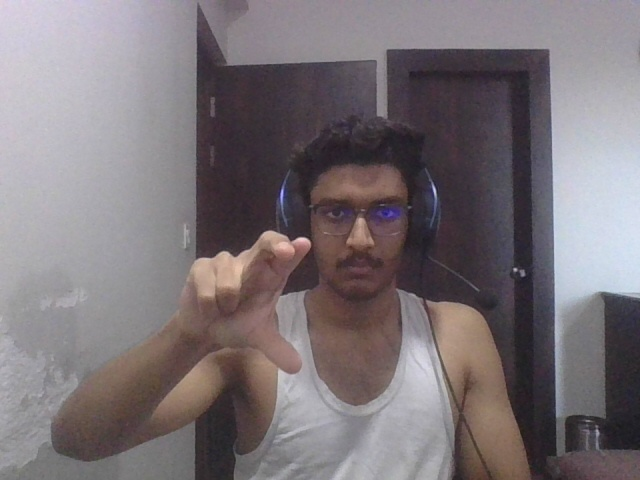No: (168, 212, 320, 380)
